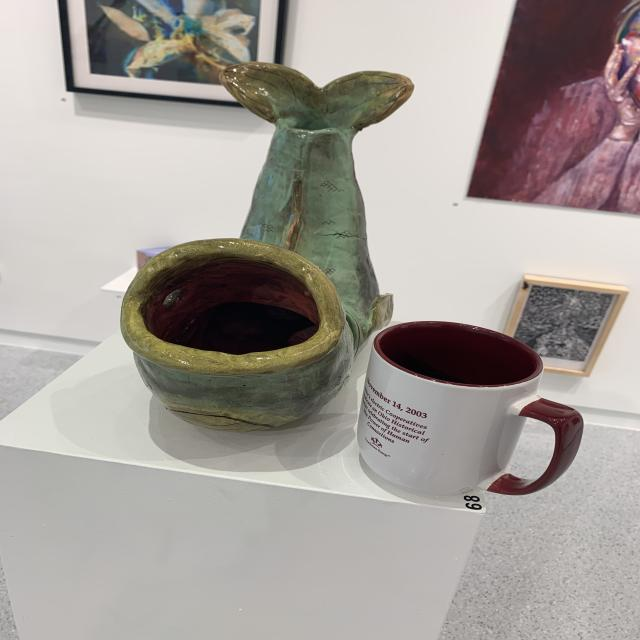Cup: (352, 312, 586, 506)
